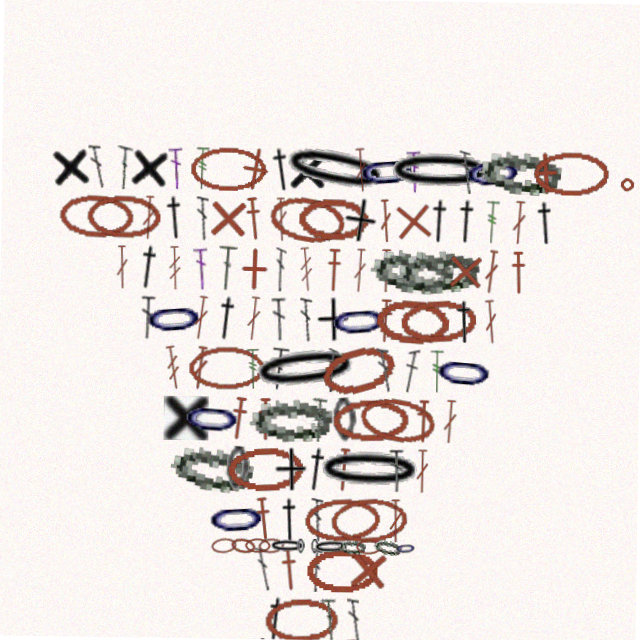chain: (275, 138, 391, 201), (249, 341, 363, 398), (317, 338, 400, 401), (317, 447, 427, 492), (383, 148, 493, 192), (171, 443, 257, 497), (358, 392, 439, 447), (265, 192, 346, 247), (369, 244, 454, 295), (395, 244, 480, 295), (476, 145, 560, 194), (332, 495, 411, 544), (251, 397, 334, 443), (306, 496, 385, 544), (399, 296, 477, 344), (228, 446, 306, 493), (374, 296, 450, 344), (333, 397, 410, 443), (57, 196, 132, 243), (189, 347, 265, 392), (188, 148, 265, 192), (531, 148, 608, 192), (85, 197, 159, 242), (296, 197, 369, 242), (268, 597, 344, 640), (309, 548, 383, 592), (433, 346, 497, 394), (142, 296, 206, 344), (327, 296, 391, 344), (353, 146, 417, 194), (459, 146, 523, 194), (208, 496, 271, 543), (182, 396, 245, 443), (333, 397, 359, 442), (227, 447, 252, 492), (316, 539, 353, 555), (376, 537, 406, 556), (272, 539, 309, 554), (233, 538, 260, 556), (214, 538, 240, 556), (261, 538, 288, 555), (341, 539, 369, 554), (248, 539, 274, 554), (359, 539, 384, 554), (398, 539, 420, 555), (300, 539, 308, 554), (314, 539, 322, 554)
double: (269, 347, 291, 392), (216, 247, 237, 292), (191, 347, 211, 392), (191, 297, 211, 342), (310, 397, 329, 442), (244, 297, 263, 342), (481, 247, 500, 292), (258, 547, 276, 592), (403, 347, 421, 392), (482, 297, 500, 342), (86, 147, 104, 192), (350, 147, 368, 192), (113, 148, 131, 192), (324, 598, 342, 640), (443, 398, 460, 442), (271, 298, 288, 342), (192, 248, 209, 292), (139, 198, 156, 242), (376, 198, 393, 242), (509, 198, 526, 242), (377, 347, 393, 392), (391, 448, 407, 492), (140, 298, 156, 342), (351, 248, 367, 292), (272, 198, 288, 242), (166, 148, 182, 192), (404, 148, 420, 192), (391, 498, 406, 542), (417, 448, 432, 492), (325, 348, 340, 392), (114, 248, 129, 292), (378, 248, 393, 292), (457, 148, 472, 192), (351, 598, 366, 640), (313, 548, 326, 592), (313, 498, 326, 542), (273, 248, 286, 292), (300, 298, 312, 342), (195, 198, 207, 242)
half_double: (303, 446, 334, 493), (211, 296, 242, 343), (132, 246, 163, 293), (265, 147, 294, 193), (265, 596, 295, 640), (424, 197, 452, 242), (451, 197, 479, 242), (160, 197, 187, 242), (531, 198, 557, 242), (280, 498, 305, 542), (452, 298, 477, 342), (229, 397, 251, 442), (282, 547, 303, 592), (256, 497, 277, 542), (242, 197, 263, 242), (336, 447, 356, 492), (376, 298, 395, 342), (416, 398, 434, 442), (324, 248, 342, 292), (258, 398, 275, 442), (509, 248, 526, 292)
noise: (617, 172, 634, 189)
single: (228, 145, 278, 195), (388, 196, 436, 244), (348, 546, 395, 593), (521, 147, 567, 193), (47, 146, 91, 193), (126, 146, 170, 193), (442, 247, 487, 292), (204, 197, 249, 242), (165, 398, 210, 442), (232, 248, 276, 292), (339, 196, 378, 244), (285, 148, 326, 192), (315, 297, 350, 342), (275, 448, 310, 492)
treble: (163, 347, 185, 392), (296, 247, 315, 292), (482, 198, 499, 242), (192, 148, 209, 192), (246, 348, 262, 392), (166, 248, 182, 292), (430, 348, 445, 392)
